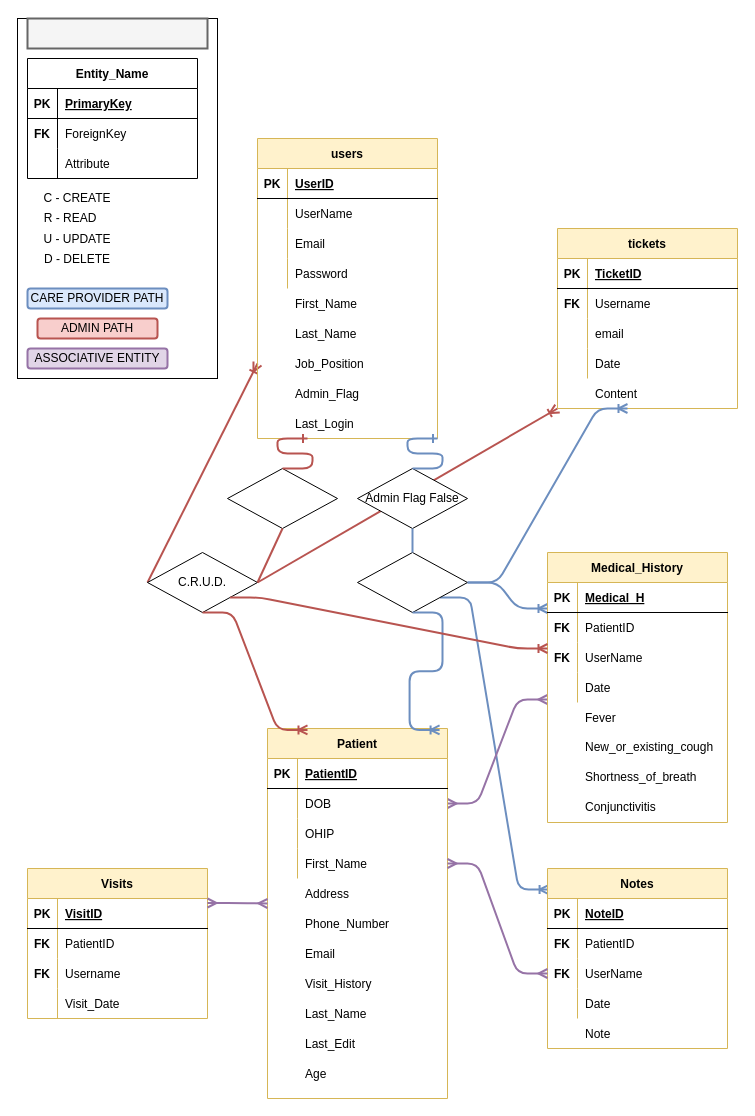
The diagram is 755 pixels wide and 1116 high, and some of its shapes have lost their labels. Each missing label, with the centre of its shape:
"Admin Flag True" belongs at [282,498].
"C.R.U." belongs at [412,582].
"LEGEND" belongs at [117,33].
